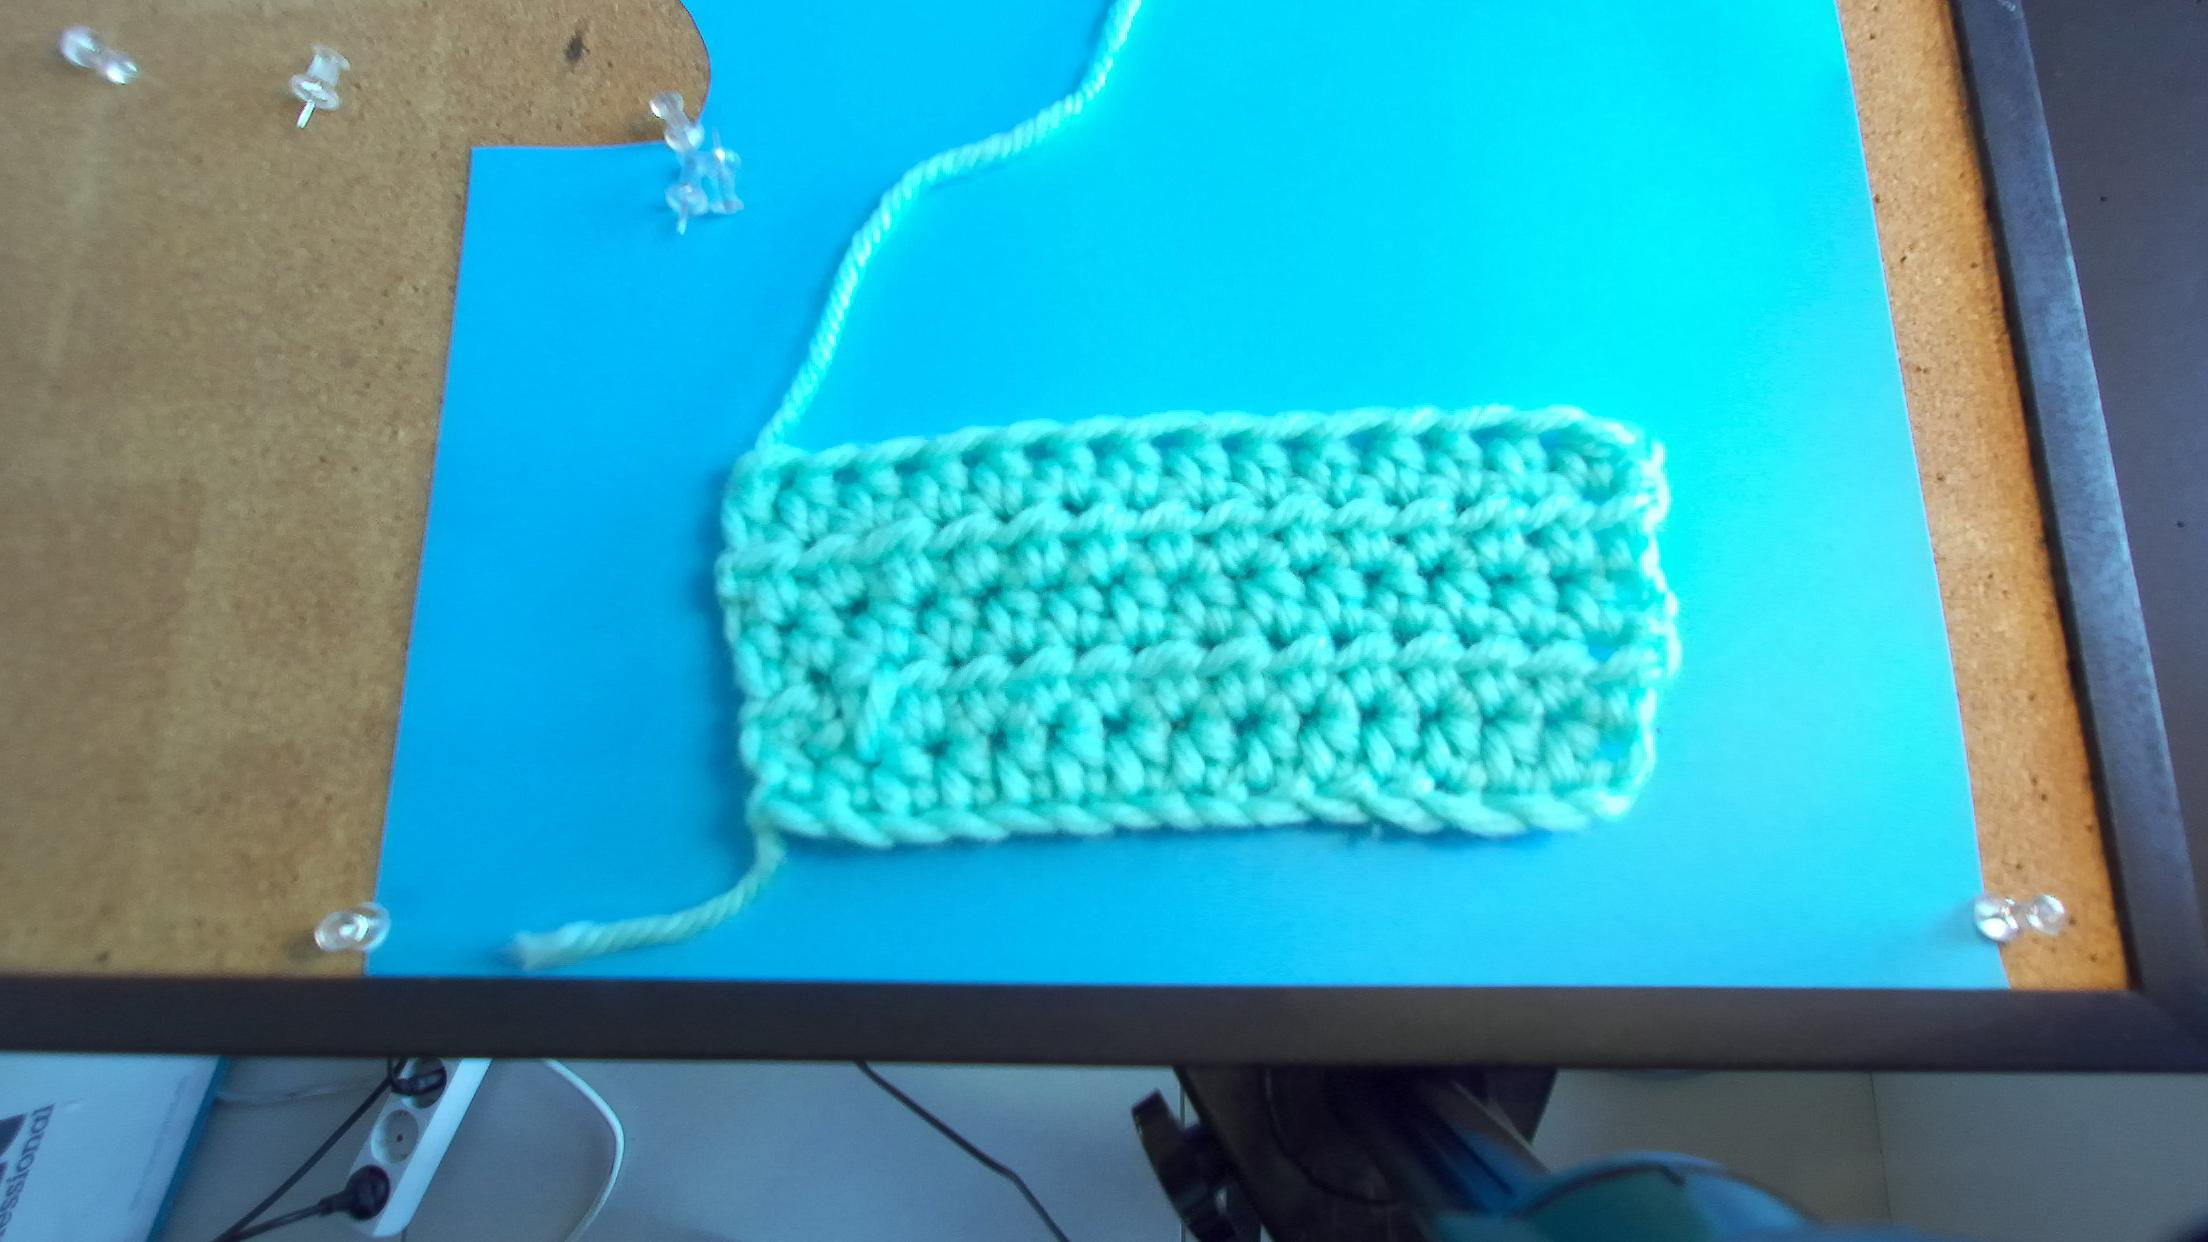hole: (958, 443, 990, 470), (1468, 426, 1507, 447), (831, 459, 861, 487), (893, 452, 925, 478), (1022, 437, 1054, 459), (1345, 428, 1377, 450), (1149, 429, 1181, 450), (1087, 434, 1115, 458), (776, 461, 798, 491), (1536, 429, 1562, 453), (1412, 431, 1441, 450), (1222, 432, 1245, 453), (1277, 437, 1309, 452)
swatch: (719, 406, 1677, 855)
